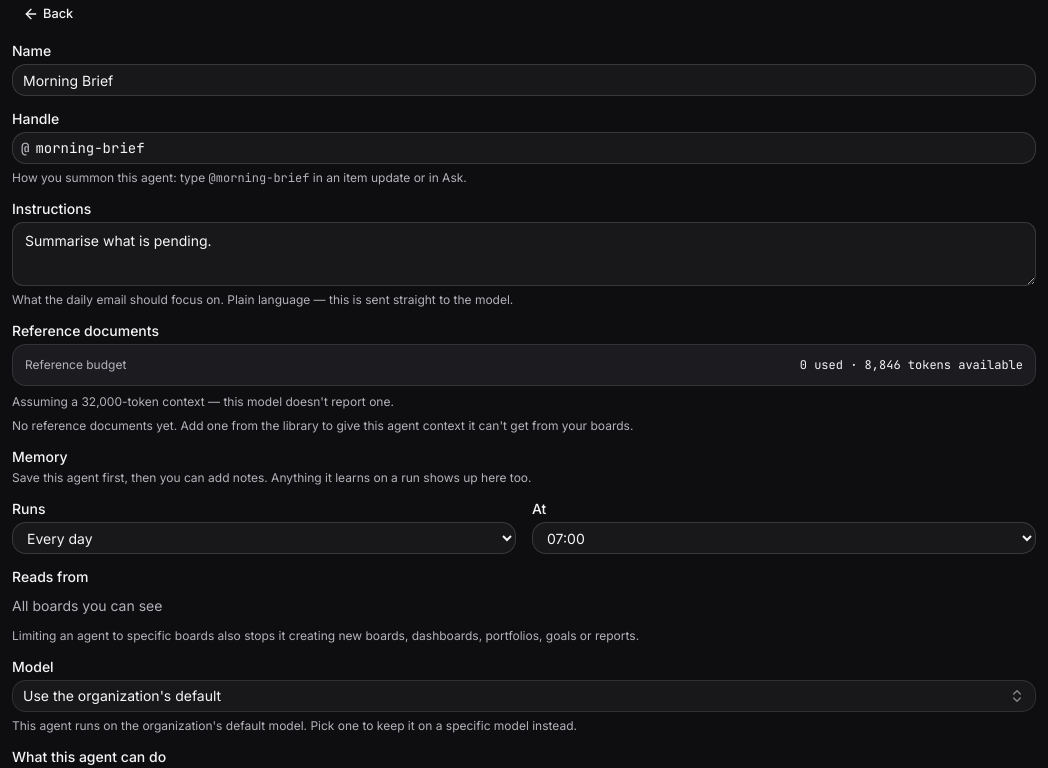
Test: AgentEditor · validation errors are tied to their field › clears the error association once the field is corrected
The width and height of the screenshot is (1048, 768).
Step 1. Clear the field labelled "Name" → x=524, y=80, box [12,64,1036,96]
(page scrolled)
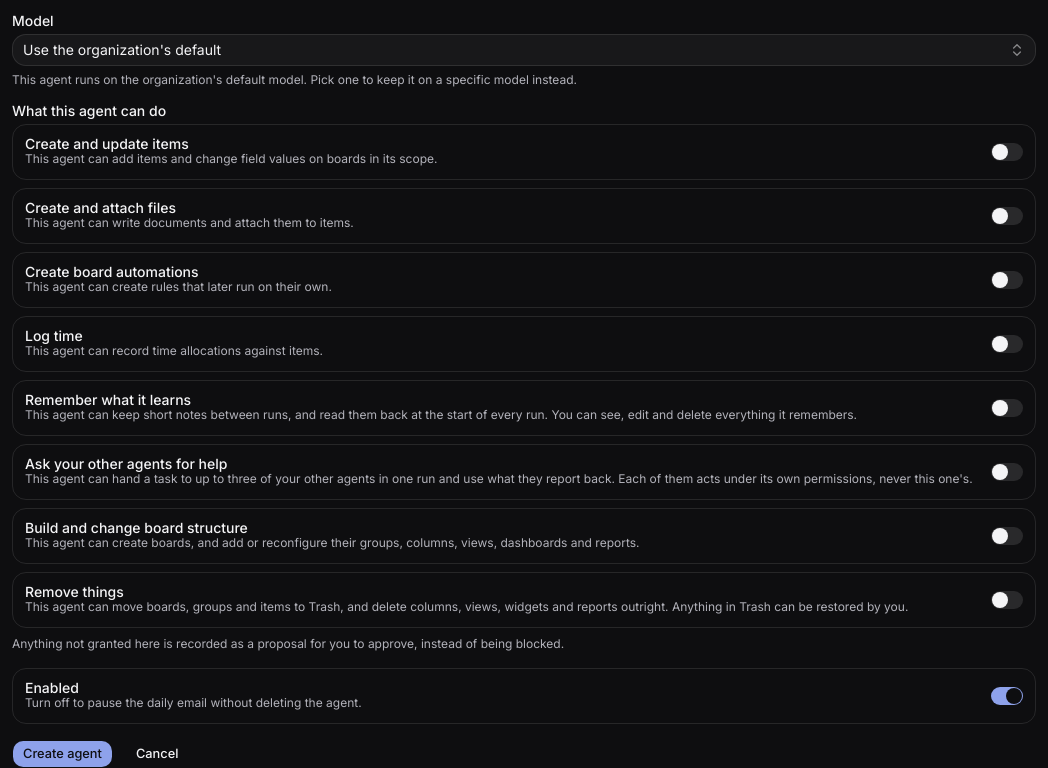
Step 2. Click the button "Create agent" → x=62, y=754, box [12,740,113,767]
(page scrolled)
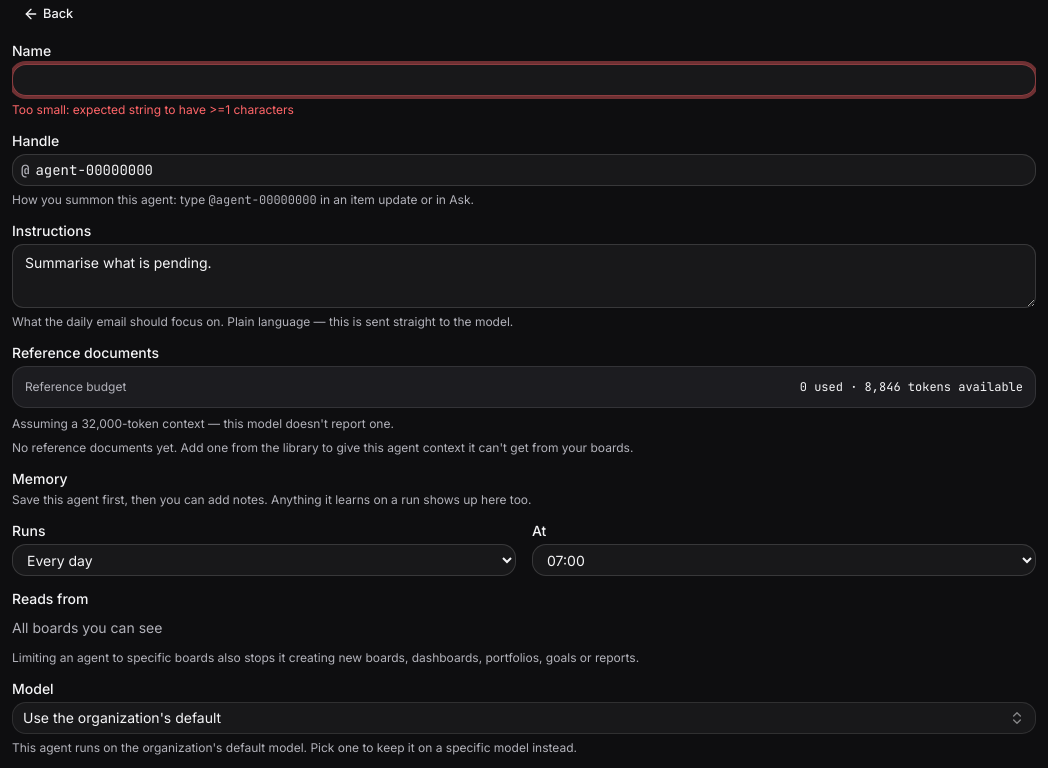
Result: the message "Too small: expected string to have >=1 characters" is shown at [12,102,294,117]
Step 3. Type "Evening Digest" into the field labelled "Name" → x=524, y=80, box [12,64,1036,96]
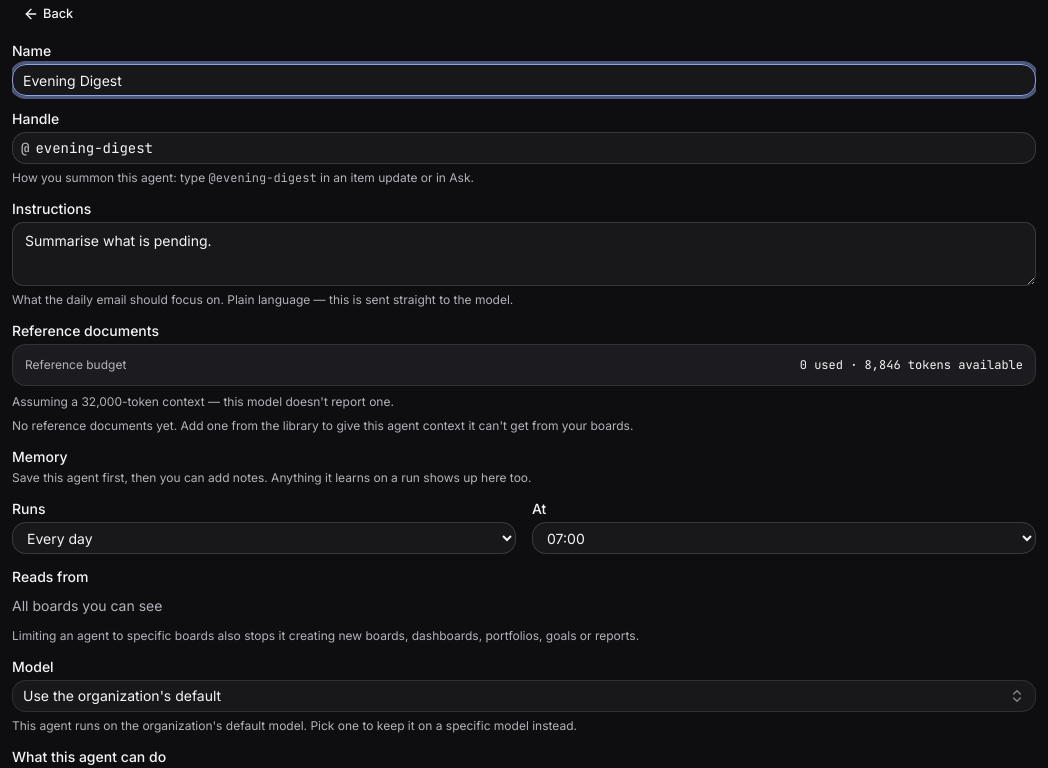
Result: the message "Too small: expected string to have >=1 characters" is gone
